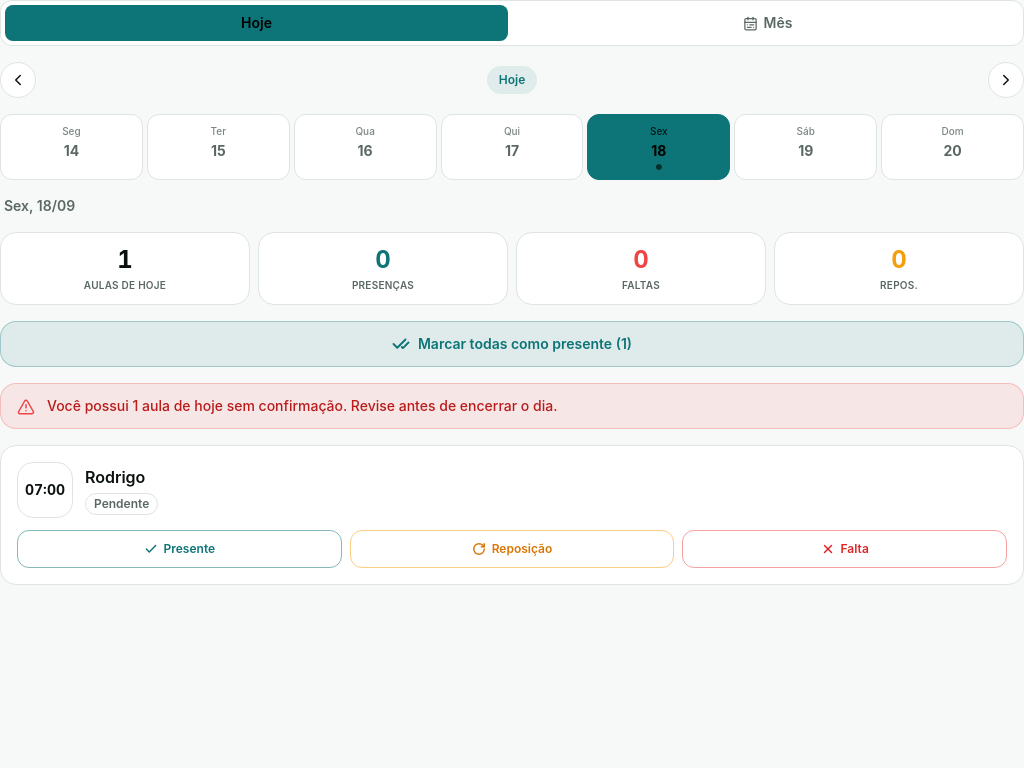
Test: AgendaView — comportamento observável do usuário › clicar em "Falta" abre a pergunta Avisada/Não avisada sem registrar nada ainda
The image size is (1024, 768).
What coordinates should you click on to do the following:
click the button with aria-label "Marcar falta"
I would click on:
 (845, 548)
Its box is [682,530,1007,568].
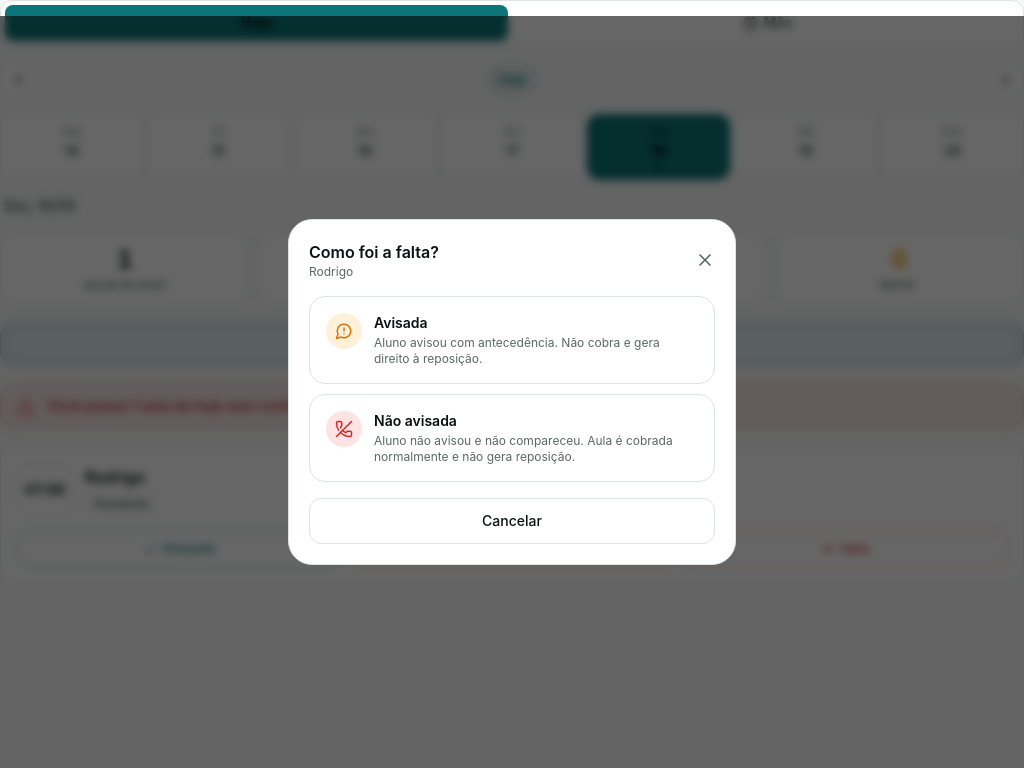
Expected: the heading "Como foi a falta?" is shown, [309,240,439,264]
